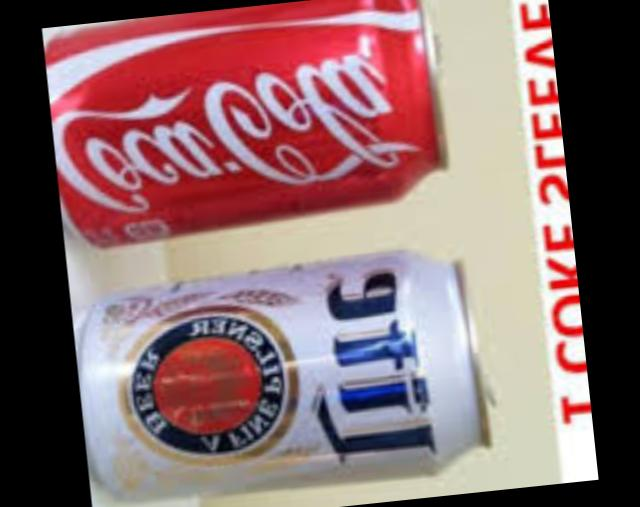metal: (45, 0, 446, 248), (79, 257, 487, 499)
